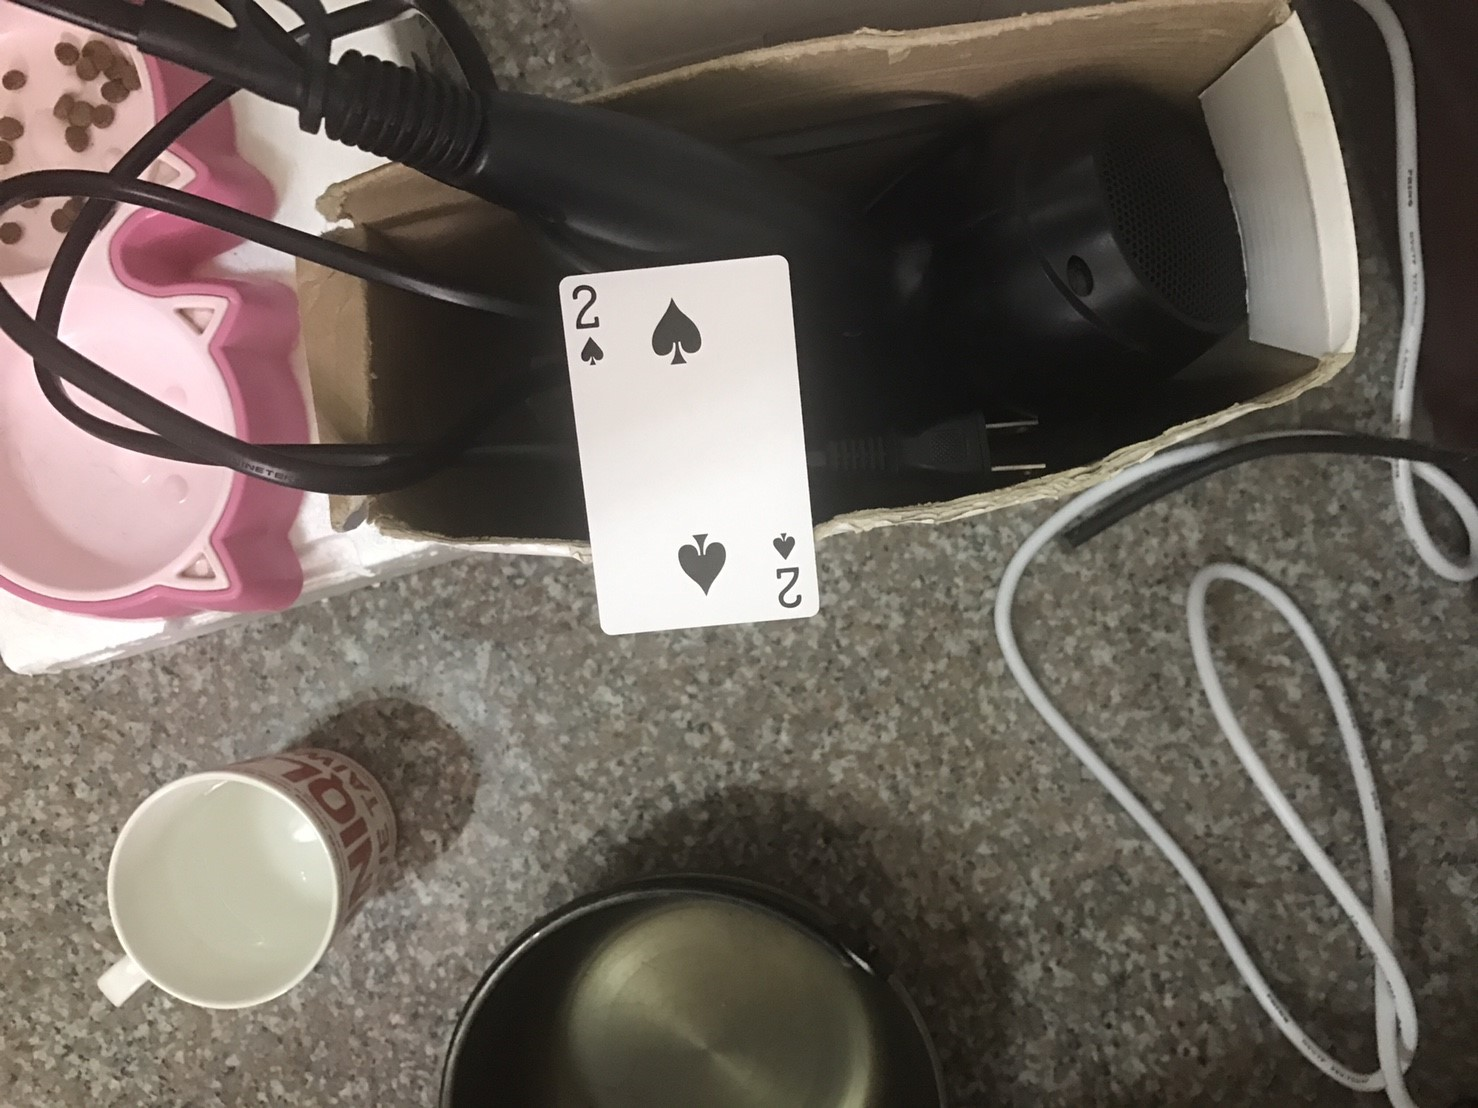spades: (645, 298, 711, 369), (680, 527, 731, 601), (574, 336, 613, 372), (768, 523, 800, 559)
